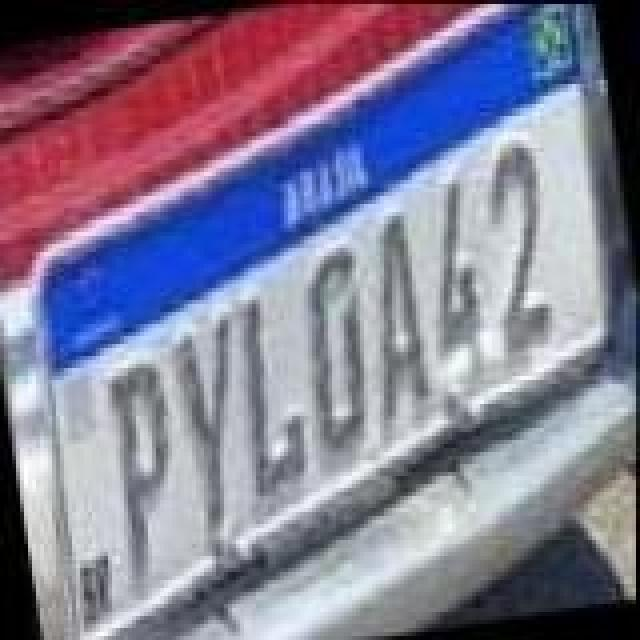2: (470, 136, 566, 352)
4: (412, 168, 496, 380)
A: (344, 206, 436, 422)
D: (290, 238, 386, 454)
L: (224, 288, 316, 500)
P: (98, 350, 202, 586)
Y: (164, 312, 264, 548)
